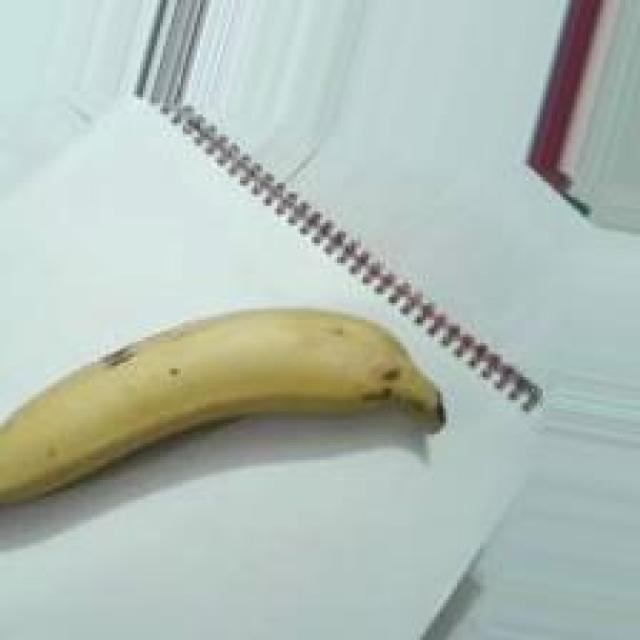bananas: (24, 289, 460, 495)
book: (26, 83, 528, 640)
